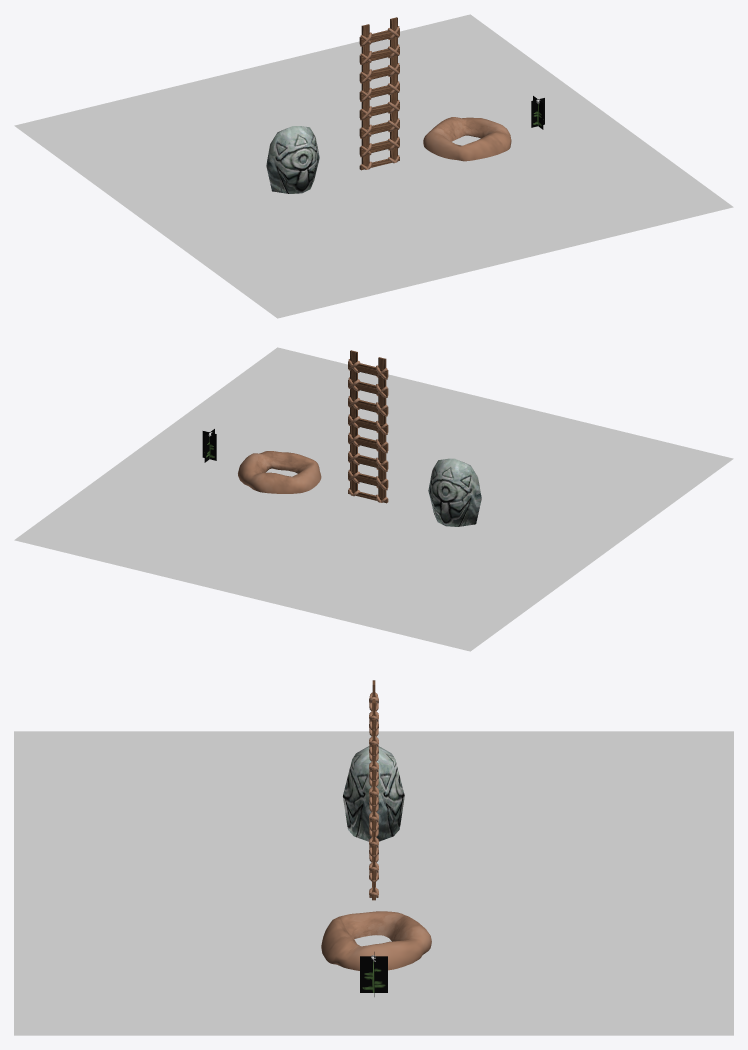
The model's file is SacredForestMeadow_Extras.fbx.
The picture shows the model from 3 angles, top to bottom: view 1: azimuth 30°, elevation 25°; view 2: azimuth 150°, elevation 25°; view 3: azimuth 270°, elevation 25°; orthographic projection. The views are drawn at different scales.
Parts seen in each view (by area): view 1: Plane, Cube, Cube.005, Cube.001, Torus, Cube.002; view 2: Plane, Cube, Cube.005, Cube.001, Torus, Cube.002; view 3: Plane, Cube.005, Cube, Torus, FlowerStem.
Boxes of the visible parts, x1,y1,x2,y2 form: Plane: [14, 14, 733, 318]; Cube: [266, 126, 319, 193]; Cube.005: [423, 117, 511, 161]; Cube.001: [359, 28, 399, 170]; Torus: [360, 26, 399, 169]; Cube.002: [361, 17, 397, 165]; Plane: [14, 347, 733, 651]; Cube: [428, 458, 481, 526]; Cube.005: [238, 451, 321, 493]; Cube.001: [348, 361, 388, 503]; Torus: [348, 359, 387, 502]; Cube.002: [350, 350, 386, 498]; Plane: [14, 731, 733, 1035]; Cube.005: [321, 911, 431, 970]; Cube: [343, 746, 404, 841]; Torus: [369, 692, 378, 897]; FlowerStem: [360, 952, 387, 996].
Bounding box in the file's own units: 3372 × 1130 × 3372.
4 materials, 4 textured.
